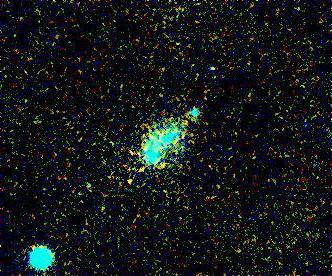star: (115, 165, 145, 195)
